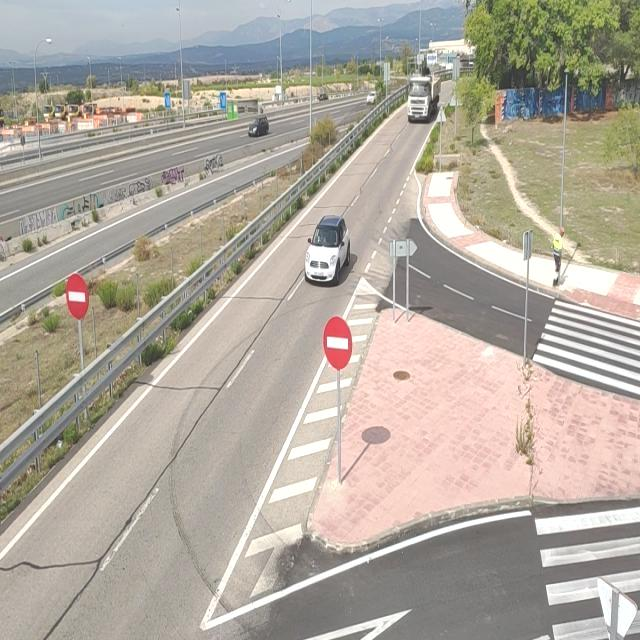Car: (303, 215, 353, 283), (247, 116, 269, 137), (366, 91, 378, 105)
Truck: (407, 71, 441, 122)
